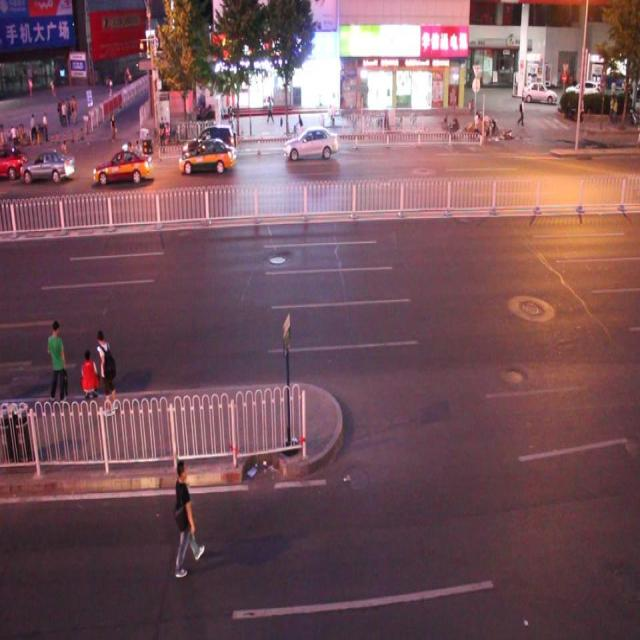car: (93, 148, 153, 186), (178, 137, 234, 172), (182, 124, 236, 160), (21, 149, 76, 184), (284, 126, 337, 161), (1, 144, 28, 178)
